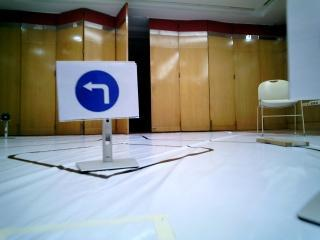left: (56, 61, 136, 118)
